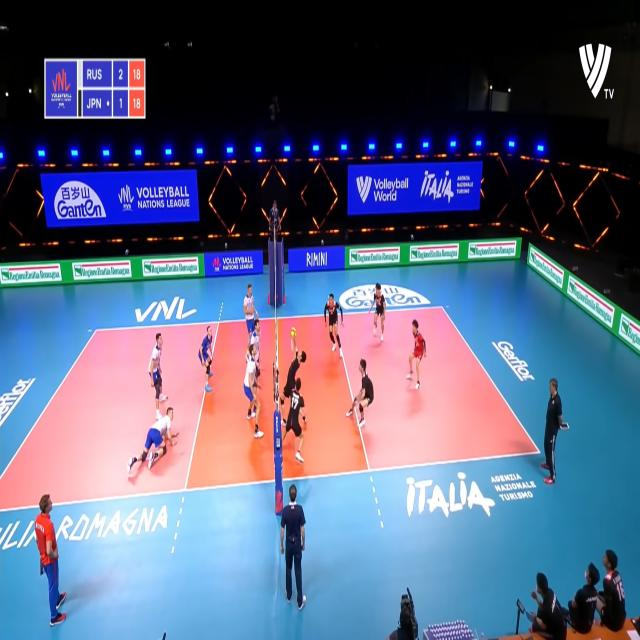player: (130, 401, 176, 471), (240, 342, 267, 442), (144, 330, 169, 416), (284, 377, 306, 464), (348, 353, 374, 425), (321, 289, 347, 354), (284, 340, 306, 413), (407, 320, 427, 390), (198, 327, 218, 394), (370, 282, 388, 340), (251, 319, 262, 388), (244, 286, 260, 329)
